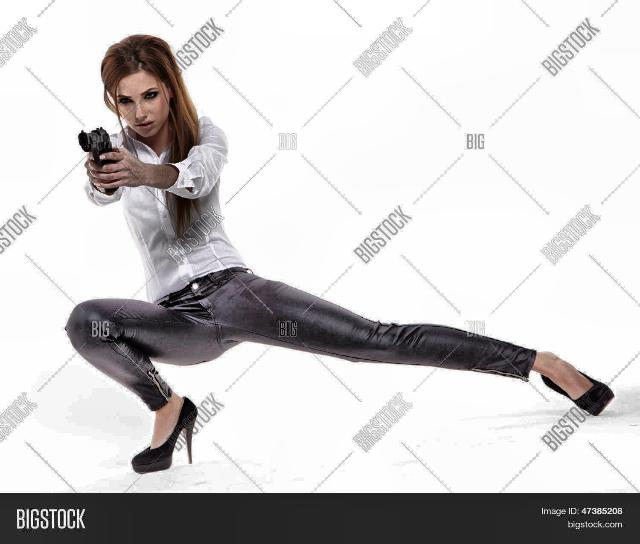pistol: (78, 127, 119, 193)
